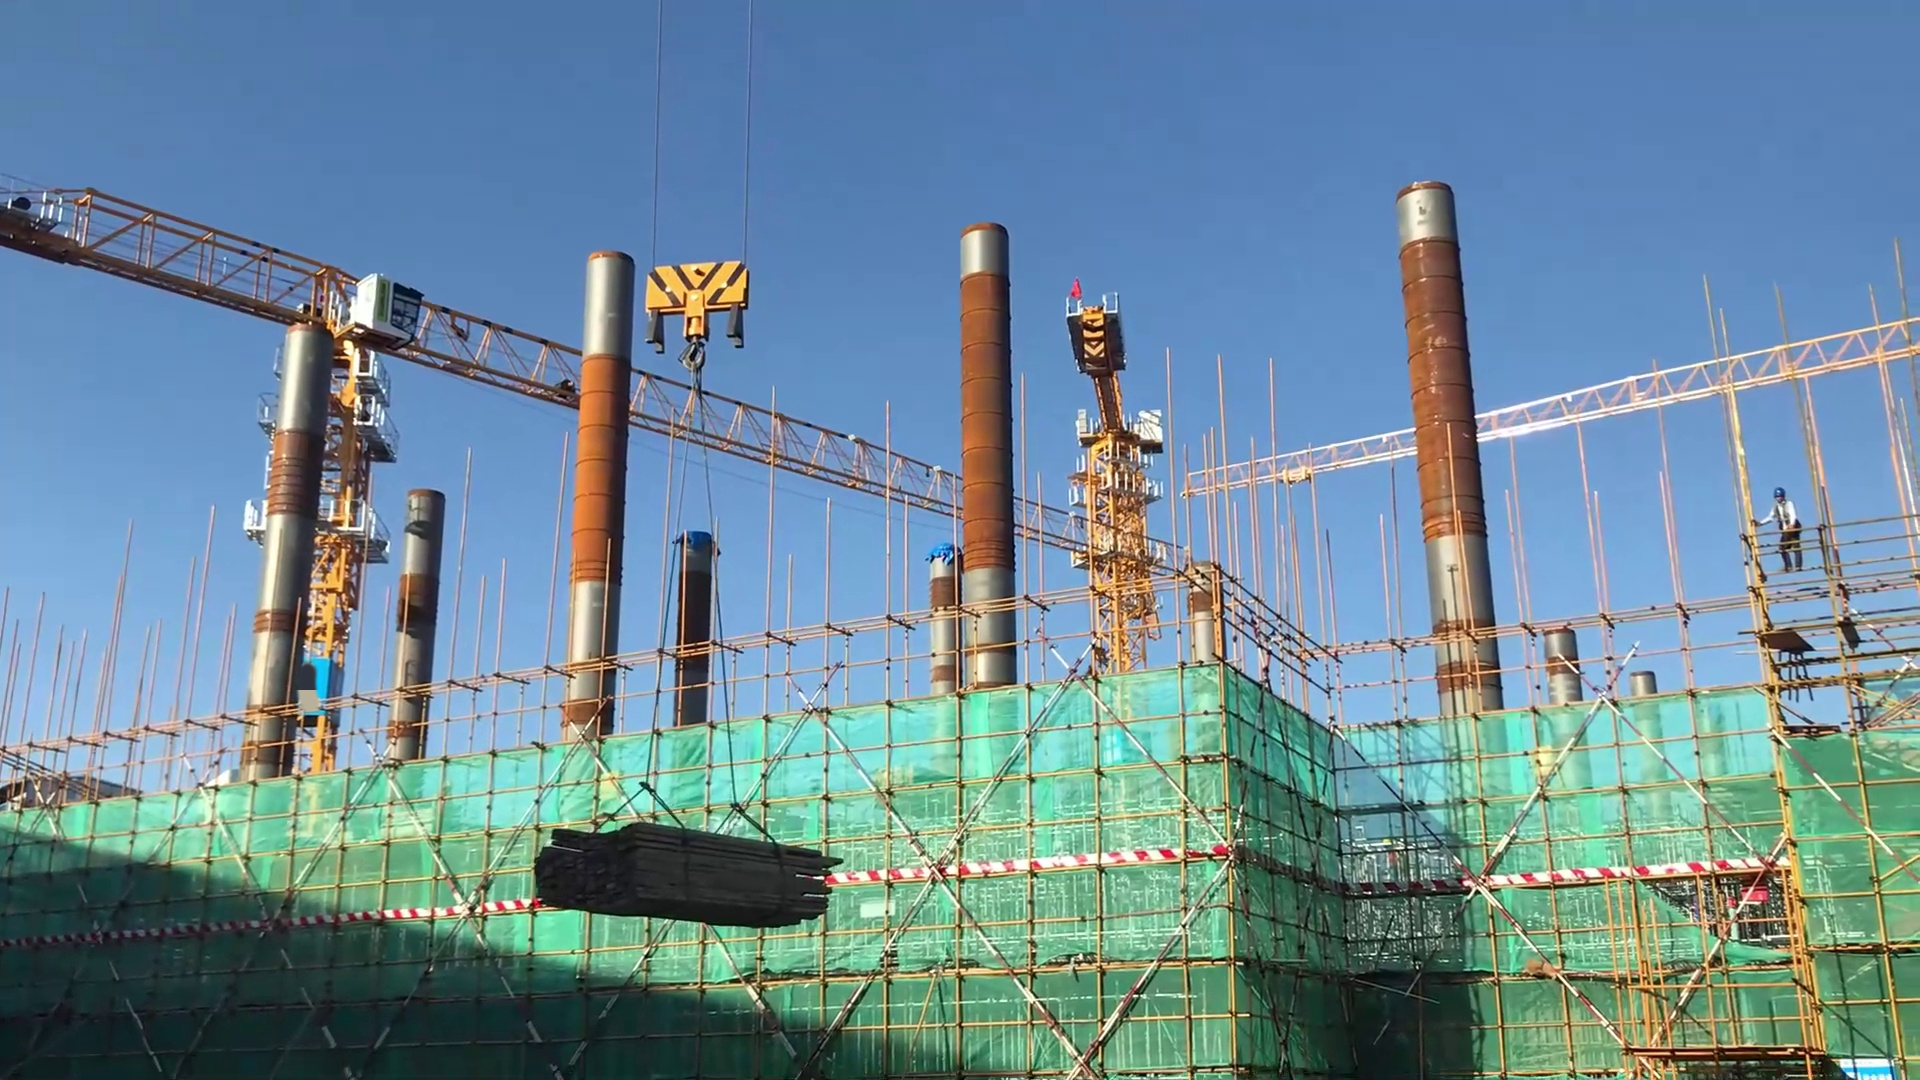helmet: (1768, 485, 1785, 500)
hook: (641, 254, 749, 352)
person: (1748, 484, 1813, 572)
vest: (1771, 503, 1796, 541)
wood: (536, 816, 837, 924)
